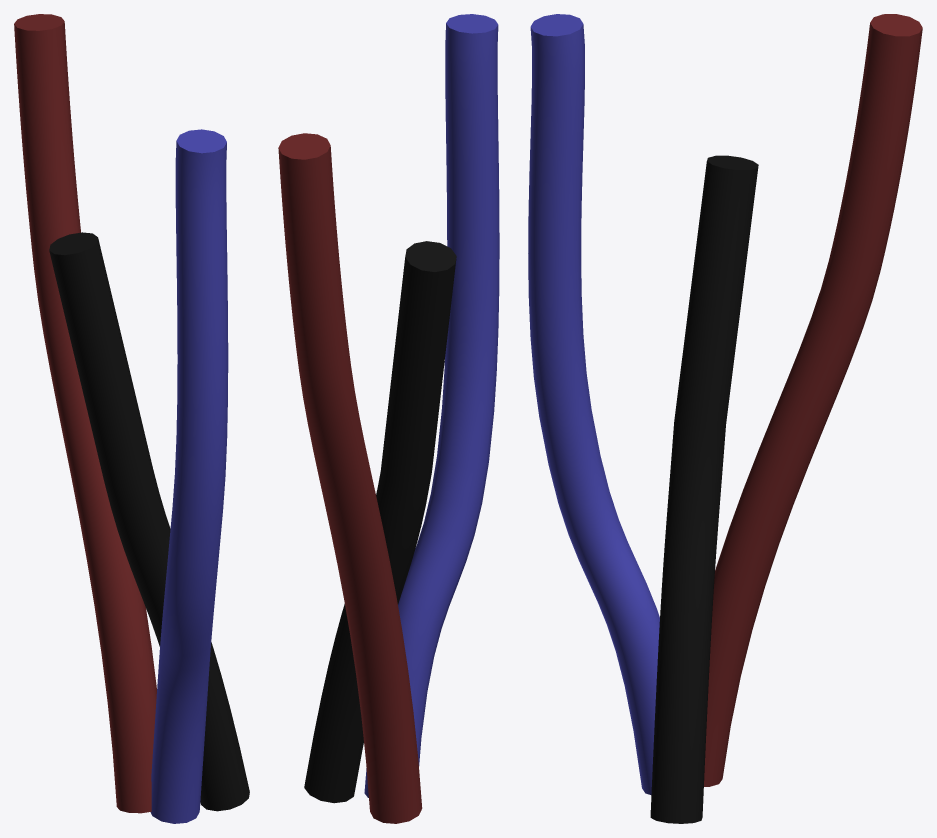
The model's file is meter wires.fbx.
3 renders of one model, left to right at view 1: azimuth 30°, elevation 25°; view 2: azimuth 150°, elevation 25°; view 3: azimuth 270°, elevation 25°, orthographic. The views are drawn at different scales.
Visible parts, largest first — view 1: meter wire01, meter wire03, meter wire02; view 2: meter wire03, meter wire01, meter wire02; view 3: meter wire03, meter wire01, meter wire02.
Part boxes in pixels (<box>): meter wire01: <box>150,129,228,823</box>; meter wire03: <box>14,14,156,813</box>; meter wire02: <box>49,232,249,811</box>; meter wire03: <box>278,133,422,823</box>; meter wire01: <box>364,14,499,797</box>; meter wire02: <box>304,241,456,803</box>; meter wire03: <box>704,14,922,786</box>; meter wire01: <box>528,14,659,794</box>; meter wire02: <box>650,155,758,823</box>.
Bounding box in the file's own units: 55.13 × 228 × 108.
